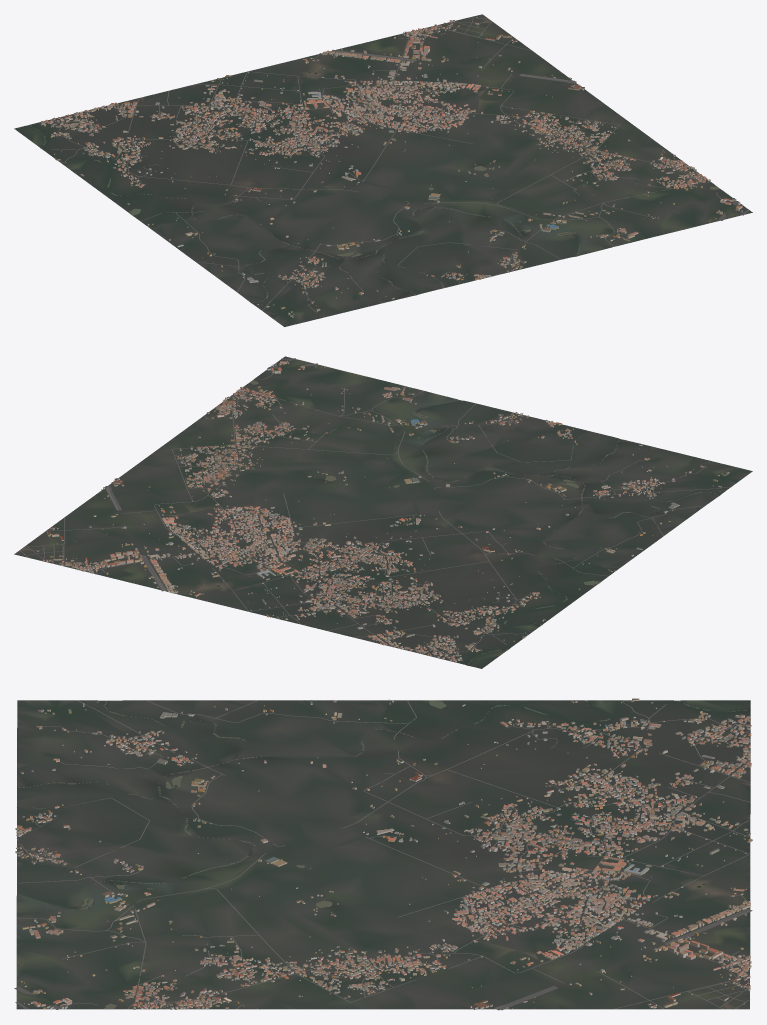
3 views of the same model, one above another, from view 1: azimuth 30°, elevation 25°; view 2: azimuth 150°, elevation 25°; view 3: azimuth 270°, elevation 25° (orthographic). The views are drawn at different scales.
Visible parts, largest first — view 1: ground, buildings, roads, water; view 2: ground, buildings, roads, water; view 3: ground, buildings, roads, water.
Boxes of the visible parts, x1=… form: ground: x1=14, y1=14, x2=752, y2=326; buildings: x1=40, y1=17, x2=742, y2=317; roads: x1=47, y1=17, x2=749, y2=312; water: x1=29, y1=72, x2=719, y2=302; ground: x1=14, y1=356, x2=752, y2=668; buildings: x1=23, y1=359, x2=729, y2=662; roads: x1=20, y1=358, x2=729, y2=659; water: x1=216, y1=380, x2=718, y2=664; ground: x1=16, y1=700, x2=750, y2=1009; buildings: x1=15, y1=698, x2=752, y2=1009; roads: x1=14, y1=700, x2=752, y2=1010; water: x1=18, y1=700, x2=747, y2=1008.
Size of the model in its own units: 2812 by 27.59 by 2825.
